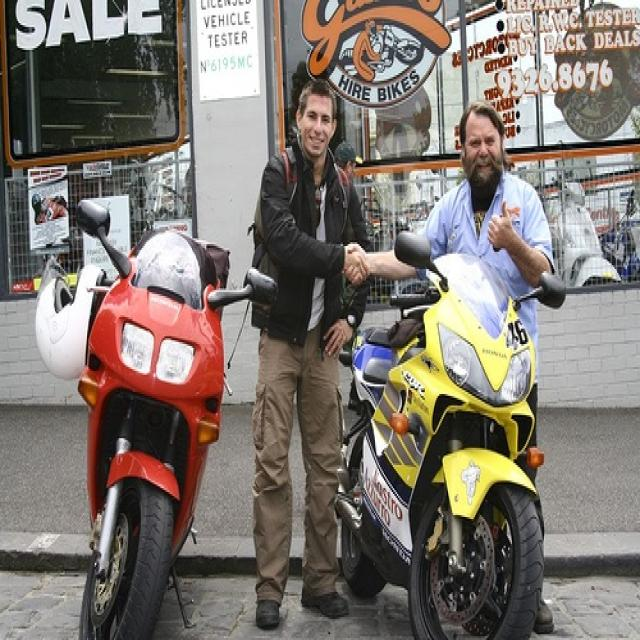motorbike: (338, 231, 566, 638), (75, 200, 276, 638), (552, 181, 622, 286)
